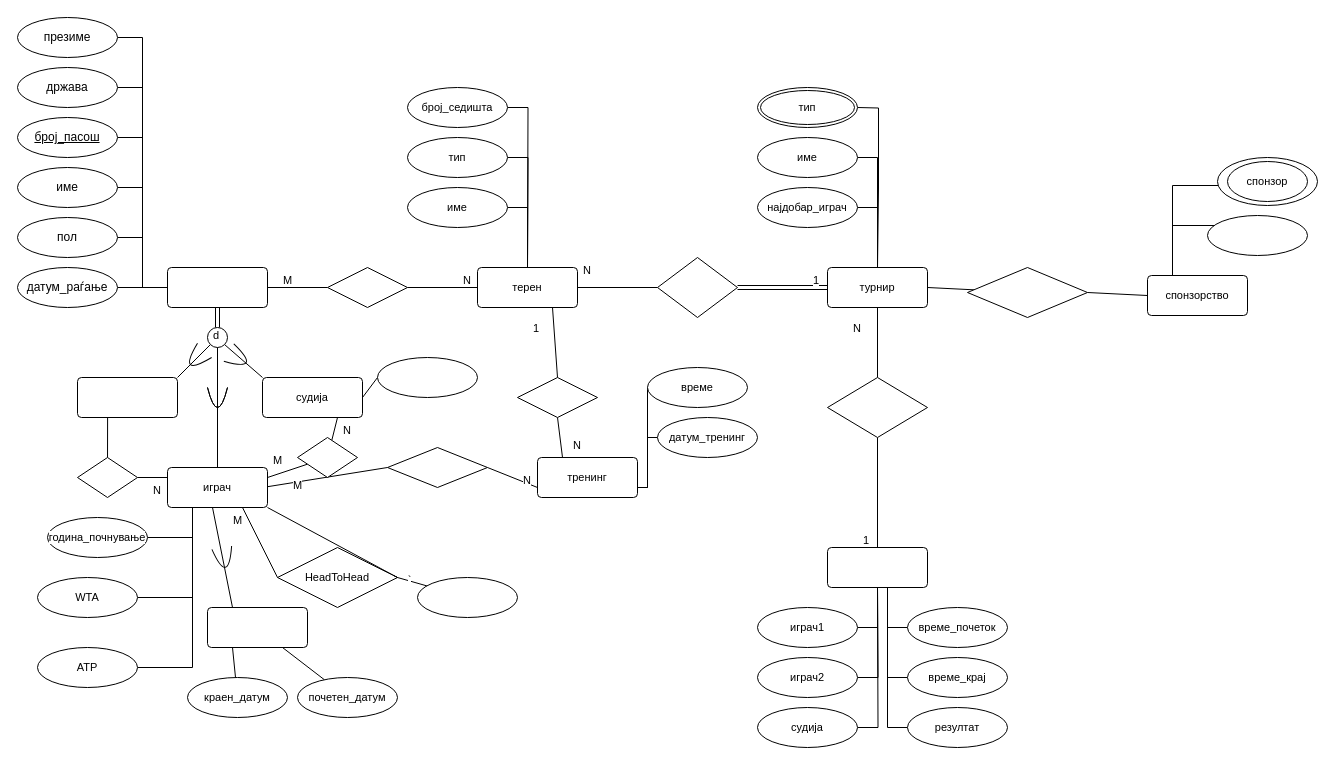
The diagram is 1335 pixels wide and 765 high, and some of its shapes have lost their labels. Each missing label, with the centre of its shape:
број_победи: point 467,597
игра: point 877,407
искуство: point 427,377
натпревар: point 877,567
пеиод_одржување: point 1257,235
ранг: point 257,627
спонзорирани_од: point 1027,292
тренер: point 127,397
учесник: point 217,287
